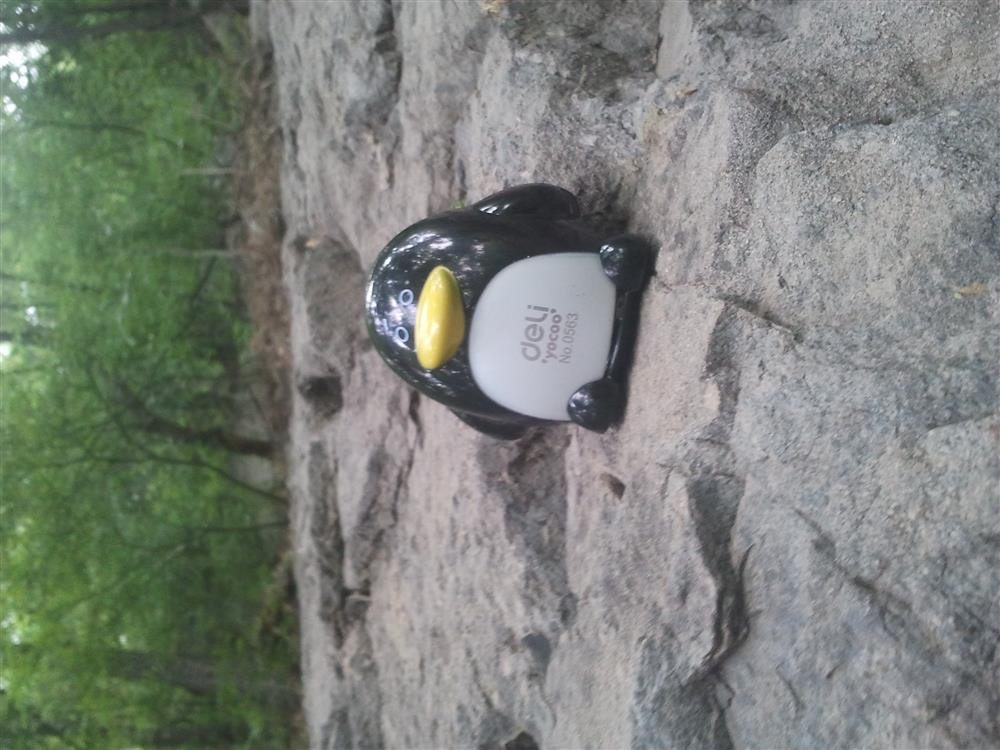deli_penguin: (338, 154, 712, 446)
